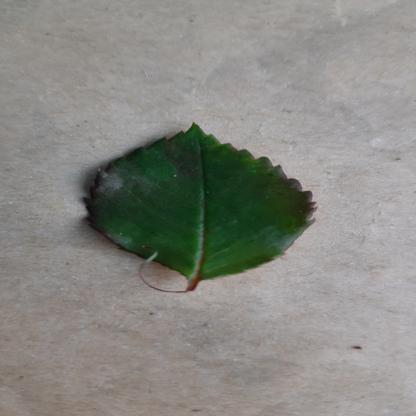powdery-mildew: (78, 120, 326, 284)
